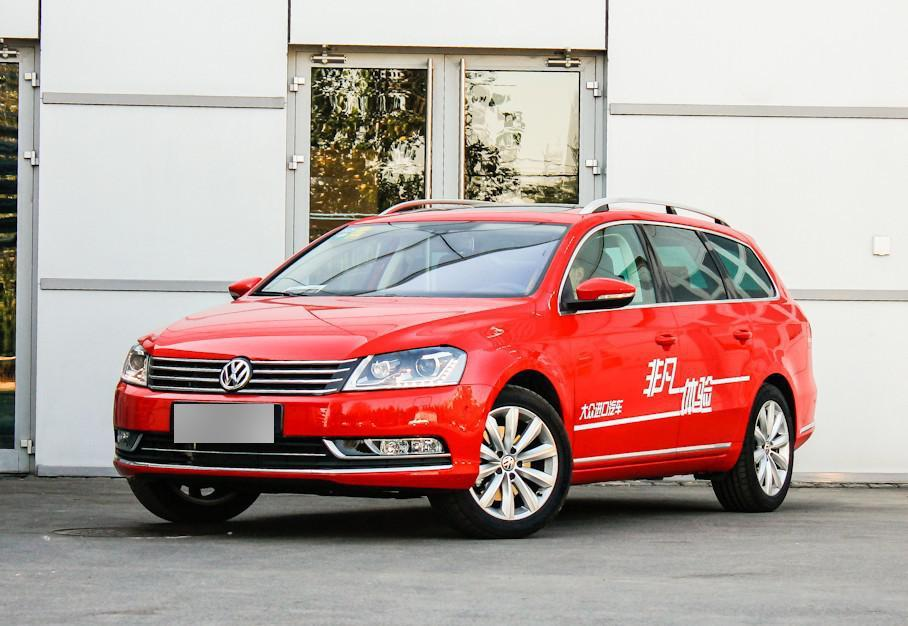Wagon: (111, 197, 820, 540)
